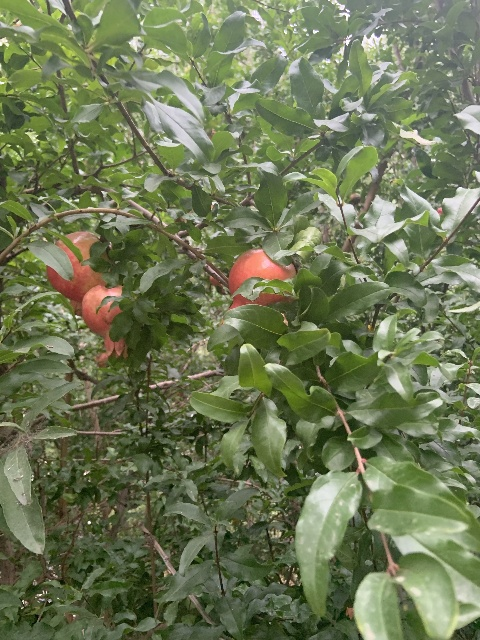ripe: (45, 231, 109, 316), (228, 248, 296, 309), (81, 283, 127, 358)
